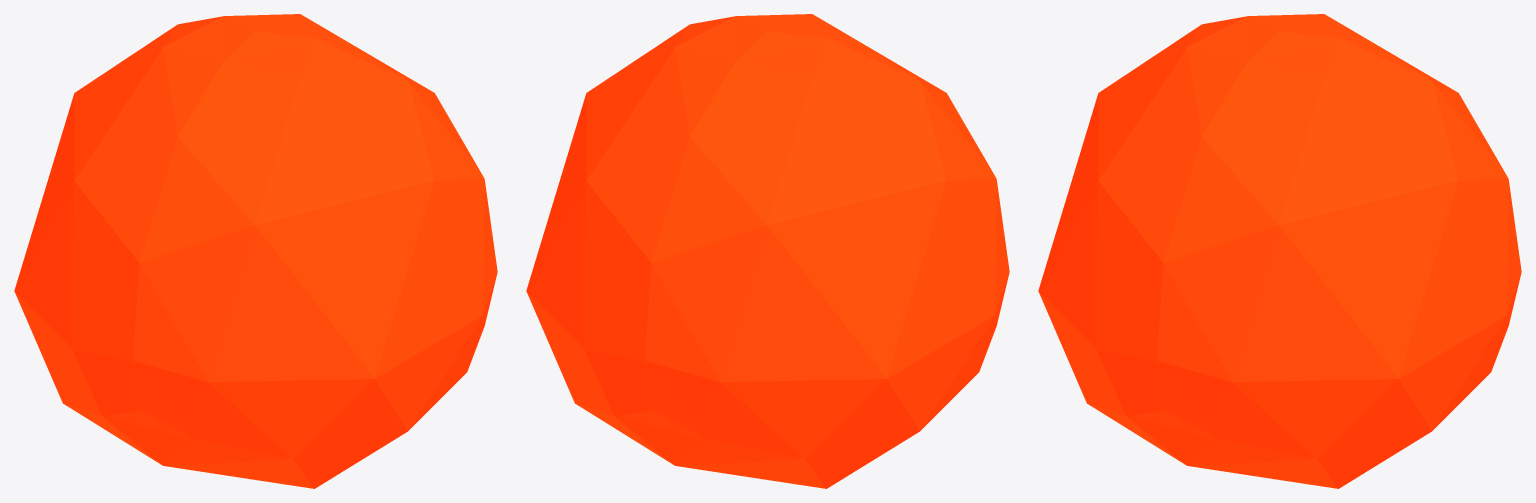
Rendered from Round Embers.fbx.
The picture shows the model from 3 angles, left to right: view 1: azimuth 30°, elevation 25°; view 2: azimuth 150°, elevation 25°; view 3: azimuth 270°, elevation 25°; orthographic projection.
Visible parts, largest first — view 1: Sphere; view 2: Sphere; view 3: Sphere.
Part boxes in pixels (<box>): Sphere: <box>14,14,497,488</box>; Sphere: <box>526,14,1009,488</box>; Sphere: <box>1038,14,1521,488</box>.
Size of what is drawn, in the model's own units: 5.84 by 5.61 by 5.94.
